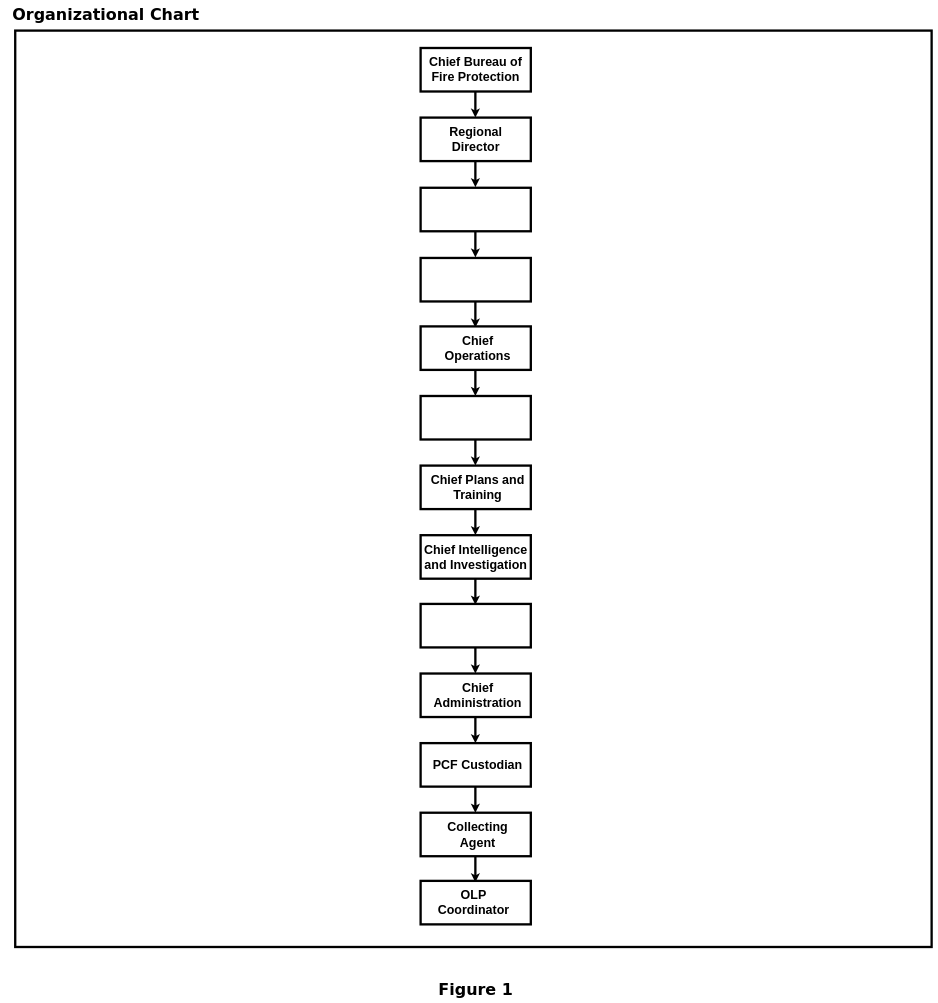
This 938x1003 diagram has some shape labels left out. Each missing label, with the centre of its shape:
"Chief Fire Safety Enforcement" goes at point 475,418.
"Municipal Fire Marshal" goes at point 475,279.
"Provincial Fire Director" goes at point 475,209.
"Supply NCO" goes at point 475,625.
